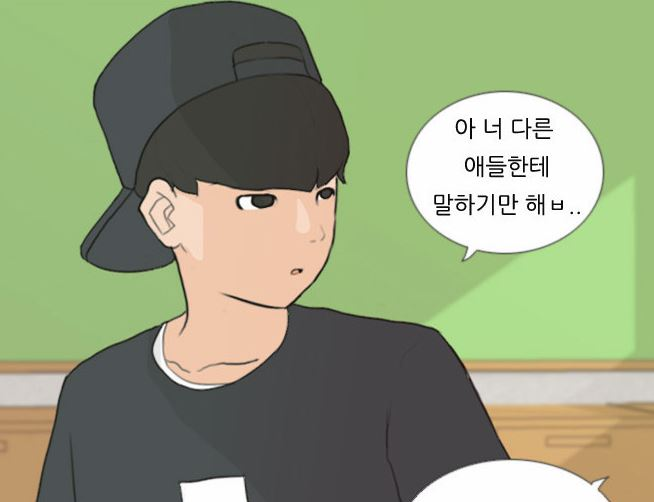hat: (82, 2, 318, 270)
